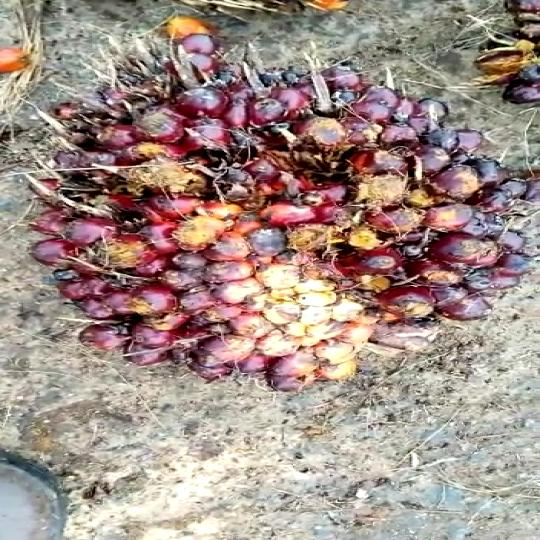masak: (28, 13, 540, 396)
